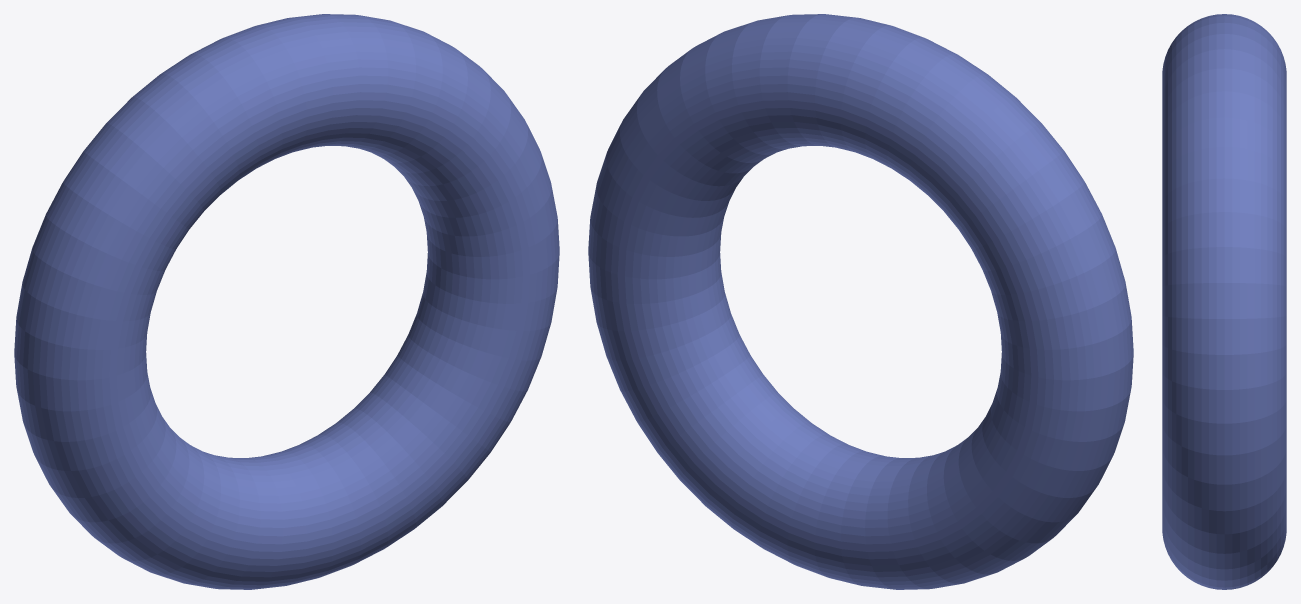
The picture shows the model from 3 angles, left to right: view 1: azimuth 30°, elevation 25°; view 2: azimuth 150°, elevation 25°; view 3: azimuth 270°, elevation 25°; orthographic projection. The views are drawn at different scales.
Visible parts, largest first — view 1: world; view 2: world; view 3: world.
Boxes of the visible parts, x1,y1,x2,y2 form: world: (14,14,559,589); world: (588,14,1133,589); world: (1162,14,1286,589).
Bounding box in the file's own units: 17.87 × 17.83 × 3.86.
